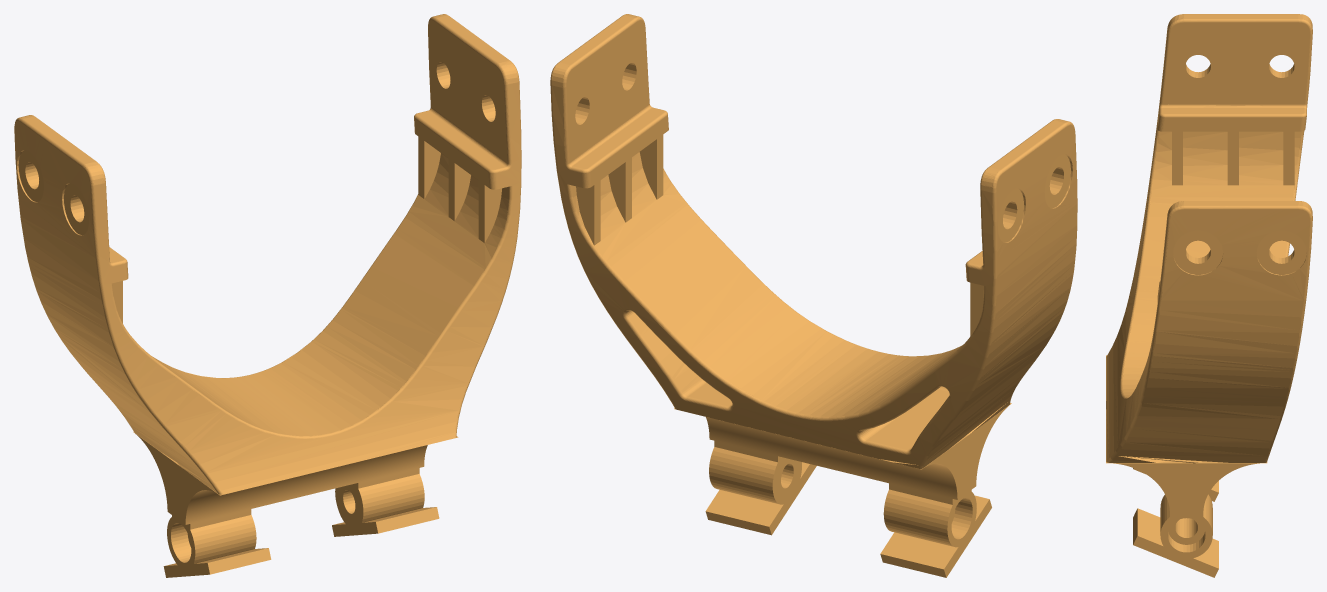
Rendered from mount_visual.glb.
3 renders of one model, left to right at view 1: azimuth 30°, elevation 25°; view 2: azimuth 150°, elevation 25°; view 3: azimuth 270°, elevation 25°, orthographic. The views are drawn at different scales.
Parts seen in each view (by area): view 1: dexmate_c960_base_camera_mount_skate_ramp_full_base_coverage; view 2: dexmate_c960_base_camera_mount_skate_ramp_full_base_coverage; view 3: dexmate_c960_base_camera_mount_skate_ramp_full_base_coverage.
Part boxes in pixels (<box>): dexmate_c960_base_camera_mount_skate_ramp_full_base_coverage: <box>14,14,521,577</box>; dexmate_c960_base_camera_mount_skate_ramp_full_base_coverage: <box>550,14,1077,577</box>; dexmate_c960_base_camera_mount_skate_ramp_full_base_coverage: <box>1106,14,1312,577</box>.
Size of the model in its own units: 0.0823 by 0.0824 by 0.0371.
